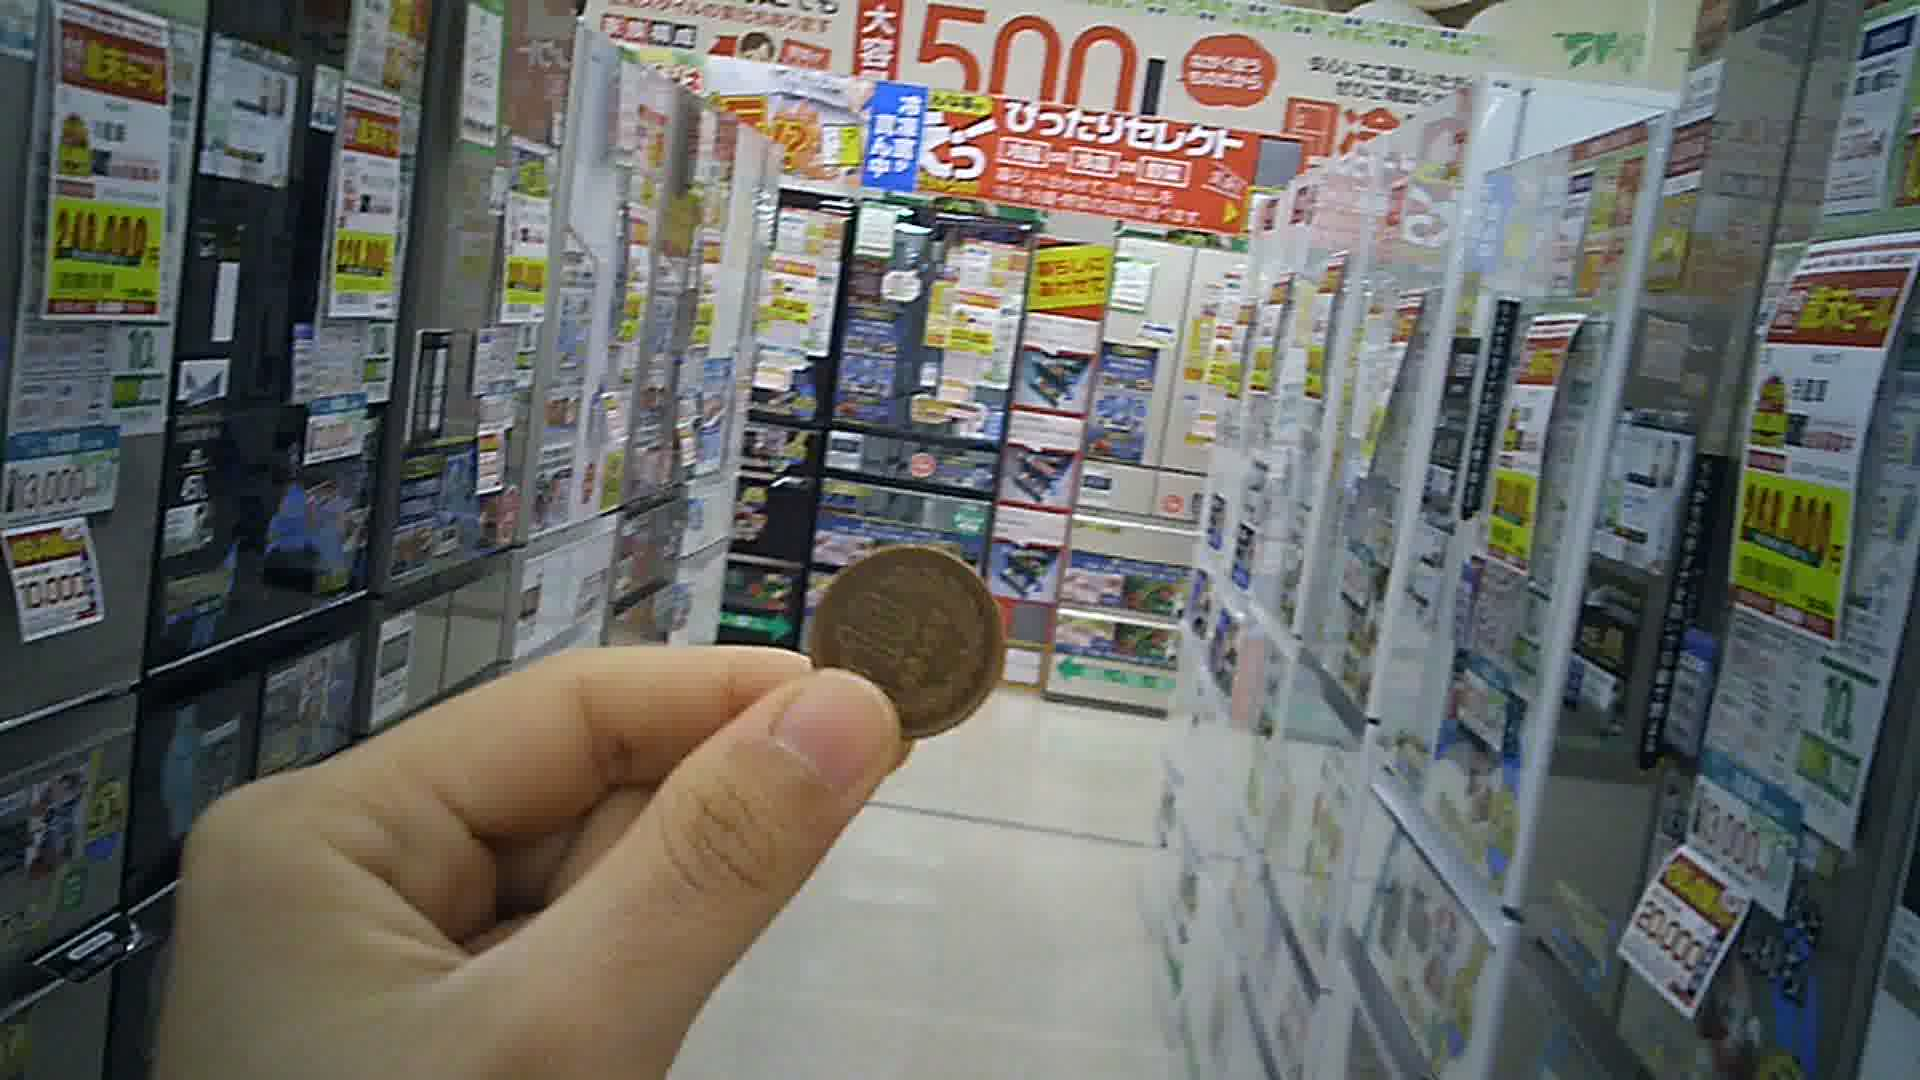10 Yen: (810, 542, 1007, 752)
